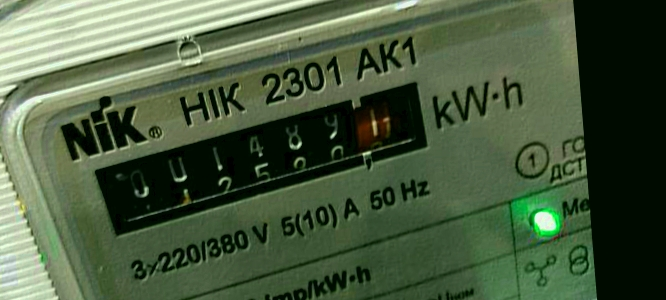0: (162, 148, 191, 186), (125, 165, 152, 202)
1: (362, 101, 384, 140), (206, 141, 228, 174)
4: (243, 128, 267, 161)
8: (282, 117, 306, 154)
9: (320, 108, 343, 141)
screen: (77, 69, 463, 249)
